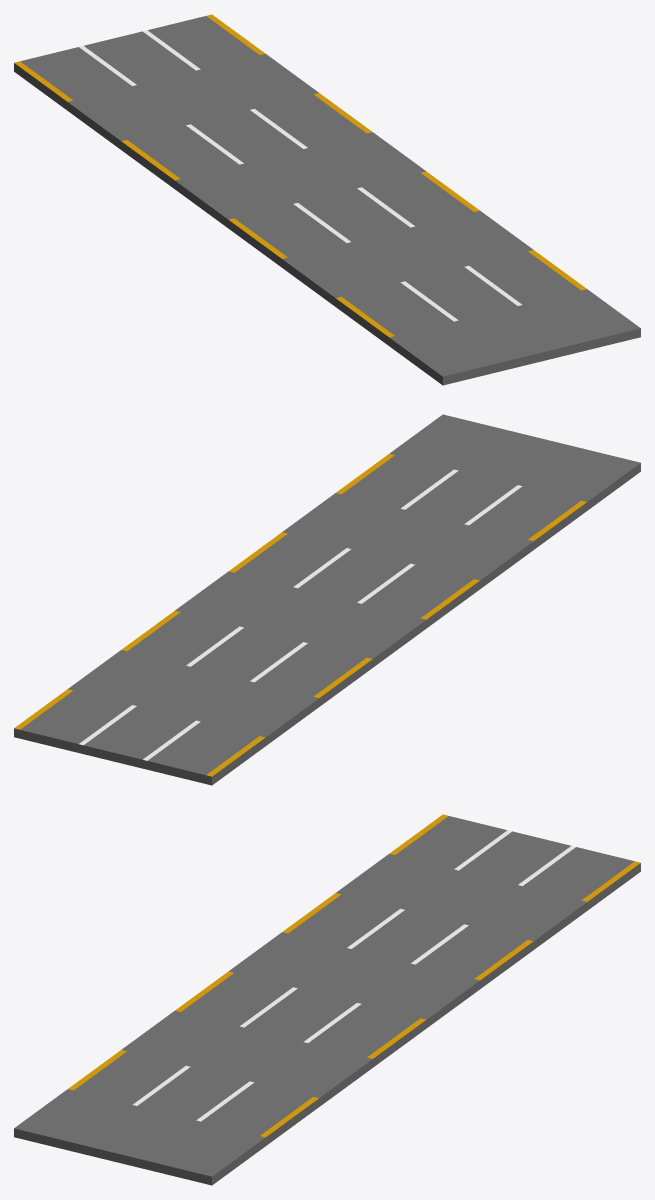
Rendered from road.fbx.
3 renders of one model, top to bottom at view 1: azimuth 30°, elevation 25°; view 2: azimuth 150°, elevation 25°; view 3: azimuth 330°, elevation 25°, orthographic.
Visible parts, largest first — view 1: Cube; view 2: Cube; view 3: Cube.
Boxes of the visible parts, x1,y1,x2,y2 form: Cube: (14,14,640,385); Cube: (14,414,640,785); Cube: (14,814,640,1185).
Size of the model in its own units: 800 by 34.2 by 3000.
